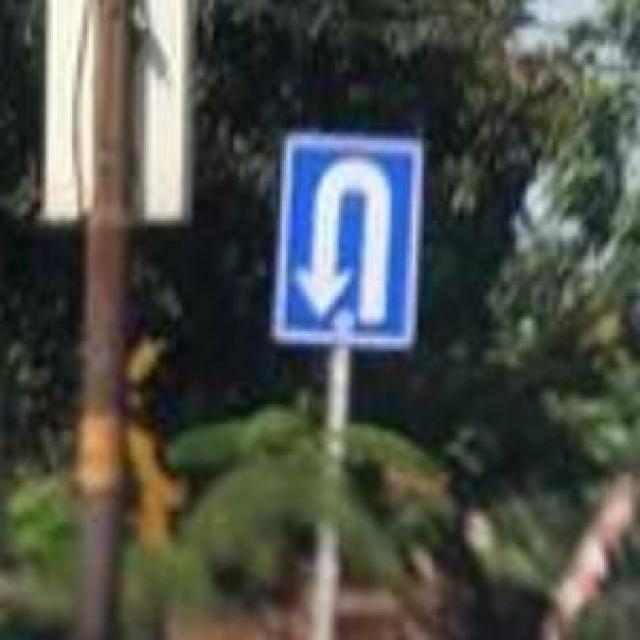U-turn: (284, 136, 411, 342)
